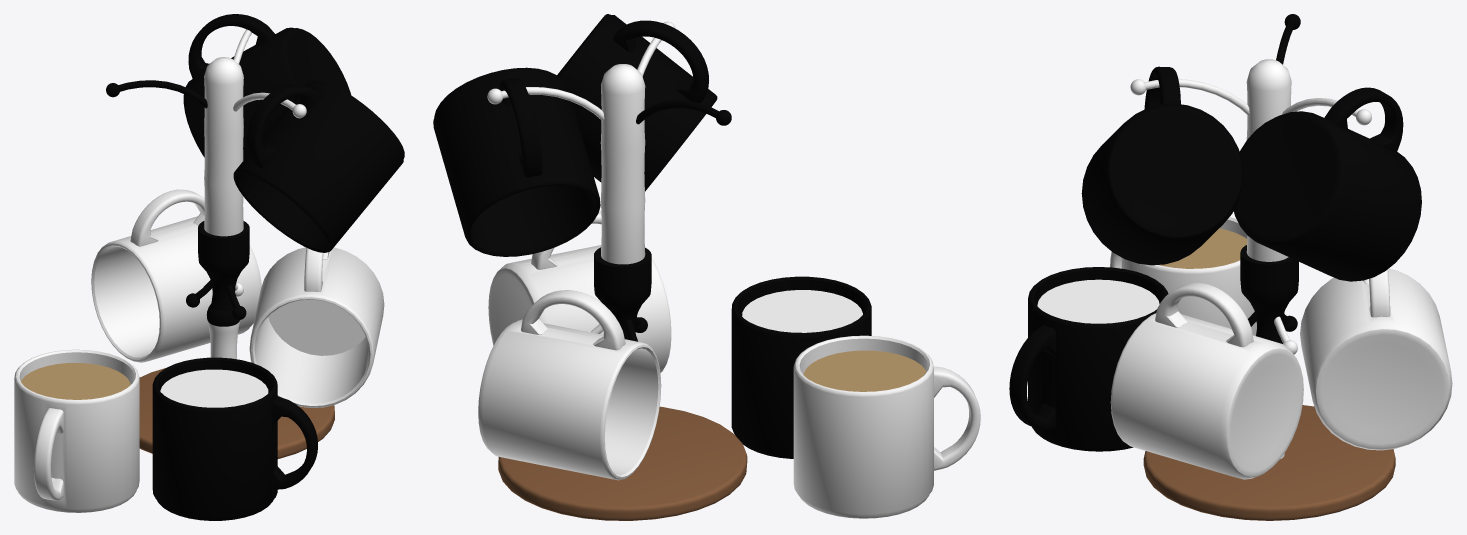
The model's file is COFFEE.glb.
The picture shows the model from 3 angles, left to right: view 1: azimuth 30°, elevation 25°; view 2: azimuth 150°, elevation 25°; view 3: azimuth 270°, elevation 25°; orthographic projection. The views are drawn at different scales.
Parts seen in each view (by area): view 1: ChamferCyl006, ChamferCyl003, ChamferCyl002, ChamferCyl001, ChamferCyl008, ChamferCyl010, ChamferCyl007, Cylinder009, Cylinder010, Cylinder005, ChamferCyl005, Cylinder001 (+3 smaller); view 2: ChamferCyl008, ChamferCyl010, ChamferCyl001, ChamferCyl005, ChamferCyl006, ChamferCyl003, ChamferCyl002, ChamferCyl007, Cylinder009, Cylinder010, Cylinder005, Cylinder007 (+1 smaller); view 3: ChamferCyl002, ChamferCyl010, ChamferCyl008, ChamferCyl006, ChamferCyl003, ChamferCyl005, Cylinder009, ChamferCyl001, Cylinder005, ChamferCyl007, Cylinder010, Cylinder008 (+2 smaller).
Boxes of the visible parts, <box> form: ChamferCyl006: <box>233,80,404,252</box>; ChamferCyl003: <box>152,357,317,520</box>; ChamferCyl002: <box>249,247,384,407</box>; ChamferCyl001: <box>14,349,139,512</box>; ChamferCyl008: <box>91,189,261,362</box>; ChamferCyl010: <box>183,14,350,160</box>; ChamferCyl007: <box>204,57,243,236</box>; Cylinder009: <box>160,369,268,407</box>; Cylinder010: <box>21,363,130,399</box>; Cylinder005: <box>198,221,249,310</box>; ChamferCyl005: <box>139,362,334,458</box>; Cylinder001: <box>207,321,239,359</box>; ChamferCyl008: <box>478,290,661,480</box>; ChamferCyl010: <box>433,67,600,256</box>; ChamferCyl001: <box>793,335,980,518</box>; ChamferCyl005: <box>498,406,747,520</box>; ChamferCyl006: <box>557,14,717,191</box>; ChamferCyl003: <box>731,276,871,458</box>; ChamferCyl002: <box>488,210,671,372</box>; ChamferCyl007: <box>600,64,645,264</box>; Cylinder009: <box>742,290,862,332</box>; Cylinder010: <box>803,350,926,391</box>; Cylinder005: <box>594,247,651,339</box>; Cylinder007: <box>487,87,604,120</box>; ChamferCyl002: <box>1110,282,1303,479</box>; ChamferCyl010: <box>1233,87,1421,281</box>; ChamferCyl008: <box>1300,268,1452,450</box>; ChamferCyl006: <box>1081,66,1243,265</box>; ChamferCyl003: <box>1009,267,1168,451</box>; ChamferCyl005: <box>1143,405,1395,520</box>; Cylinder009: <box>1037,279,1159,323</box>; ChamferCyl001: <box>1110,217,1256,335</box>; Cylinder005: <box>1240,245,1298,343</box>; ChamferCyl007: <box>1246,59,1291,261</box>; Cylinder010: <box>1159,228,1247,268</box>; Cylinder008: <box>1130,79,1249,115</box>.
Bounding box in the file's own units: 0.4196 × 0.3642 × 0.3574.
